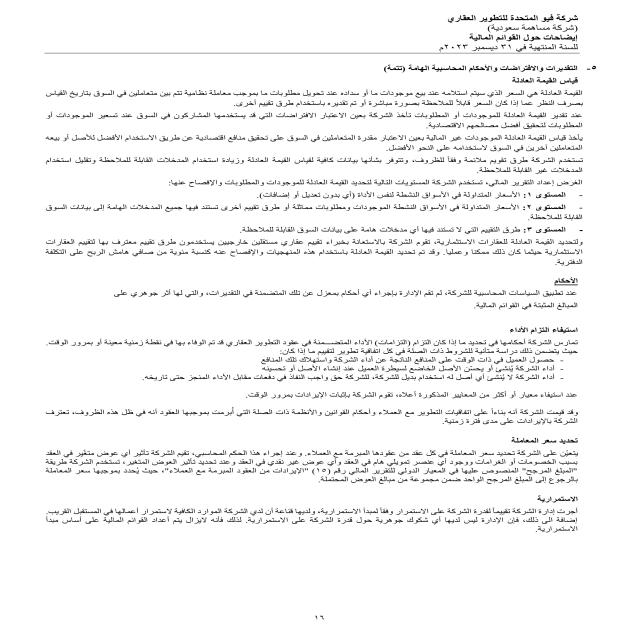notes: (463, 34, 598, 42)
text: (41, 64, 607, 562)
